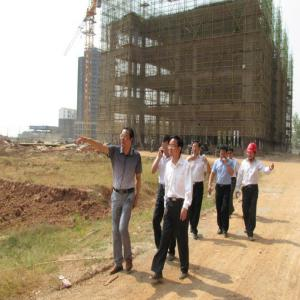none: (168, 135, 184, 159), (121, 127, 137, 150), (161, 135, 173, 158), (191, 141, 202, 157), (219, 146, 228, 162), (227, 148, 234, 160)
red: (246, 143, 259, 162)
